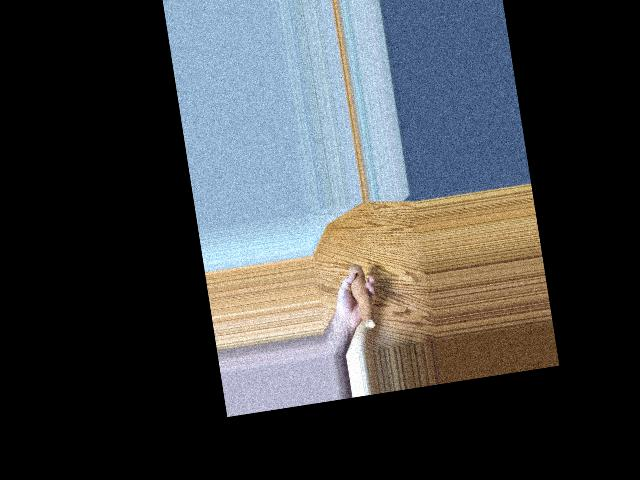sweet_potato: (346, 266, 376, 325)
